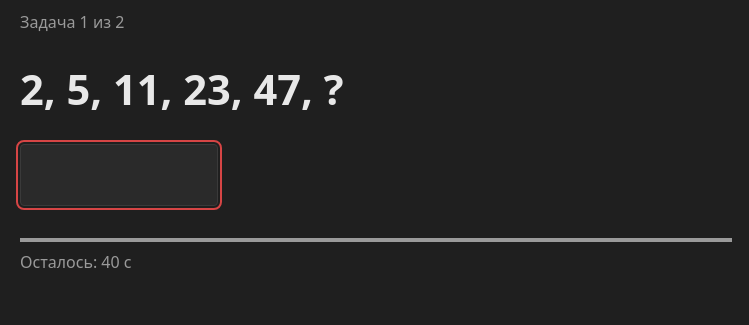
Scenario: NumSeriesView › «abc» shows «Введи целое число» and stays on the item
In the field named "Ответ": (119, 175) [20, 144, 218, 206], type "abc"
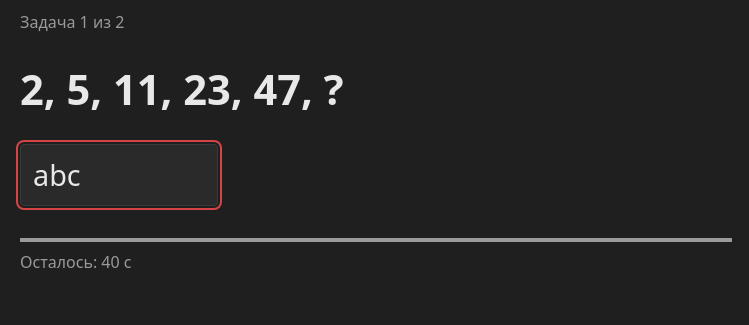
Press Enter in the field named "Ответ", box [20, 144, 218, 206]
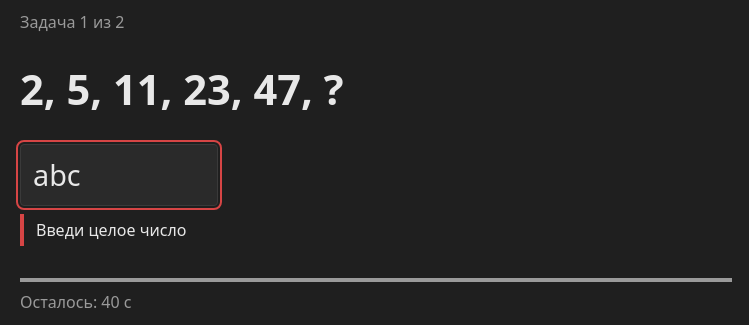
expect the text "2, 5, 11, 23, 47, ?" is shown: met, box [20, 61, 344, 117]
expect the message reads "Введи целое число": met, box [36, 219, 186, 241]
Replace the text in the field named "Ответ" with "4.5": (119, 175) [20, 144, 218, 206]
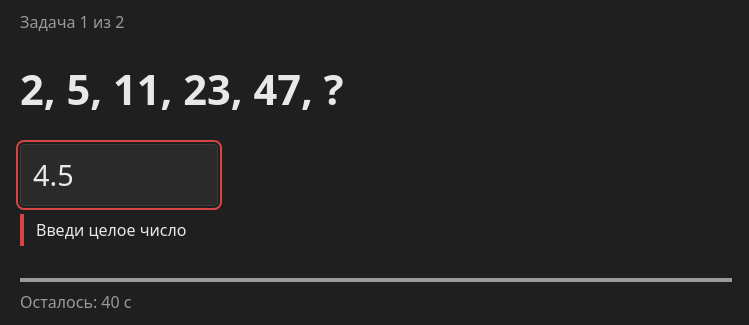
Press Enter in the field named "Ответ", box [20, 144, 218, 206]
expect the text "2, 5, 11, 23, 47, ?" is shown: met, box [20, 61, 344, 117]
Replace the text in the field named "Ответ" with "95": (119, 175) [20, 144, 218, 206]
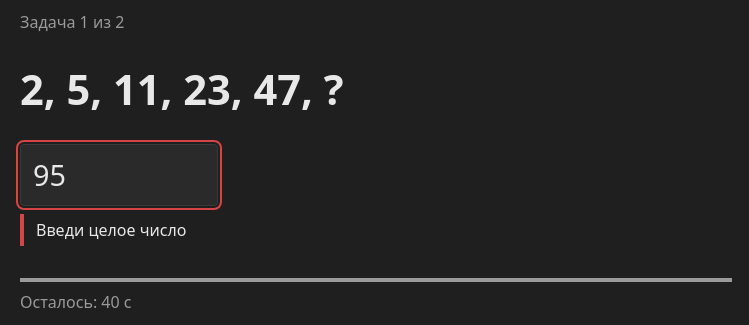
Press Enter in the field named "Ответ", box [20, 144, 218, 206]
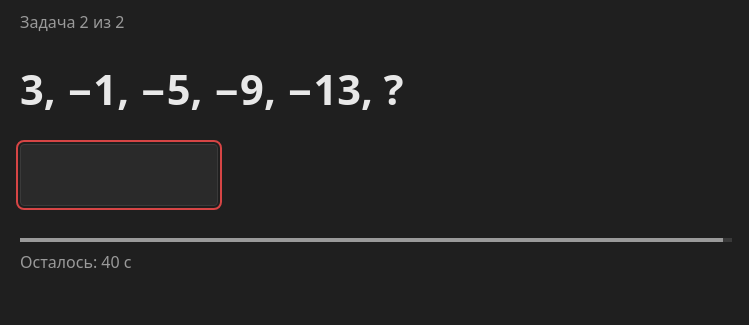
expect the message "Введи целое число" is gone: met
expect the text "3, −1, −5, −9, −13, ?" is shown: met, box [20, 61, 404, 117]
